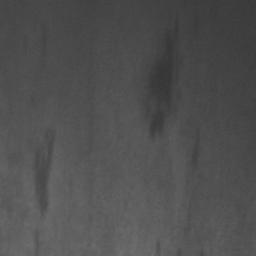Inclusion: (147, 41, 174, 134), (33, 128, 56, 216)
